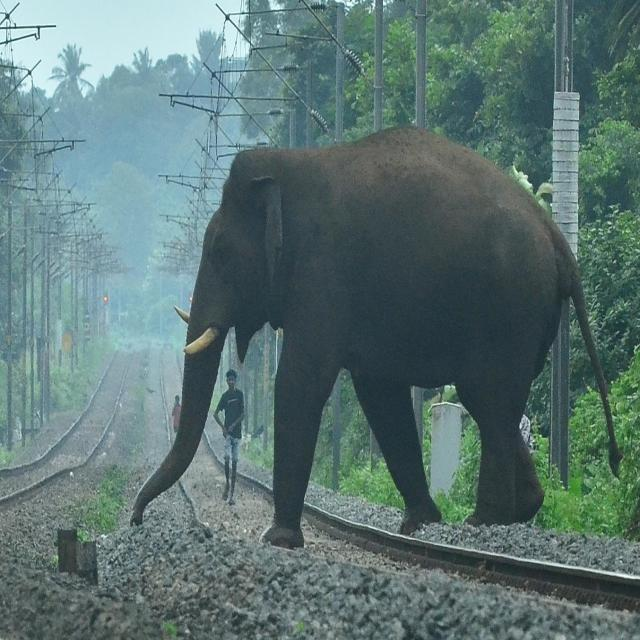Elephant: (141, 123, 608, 560)
